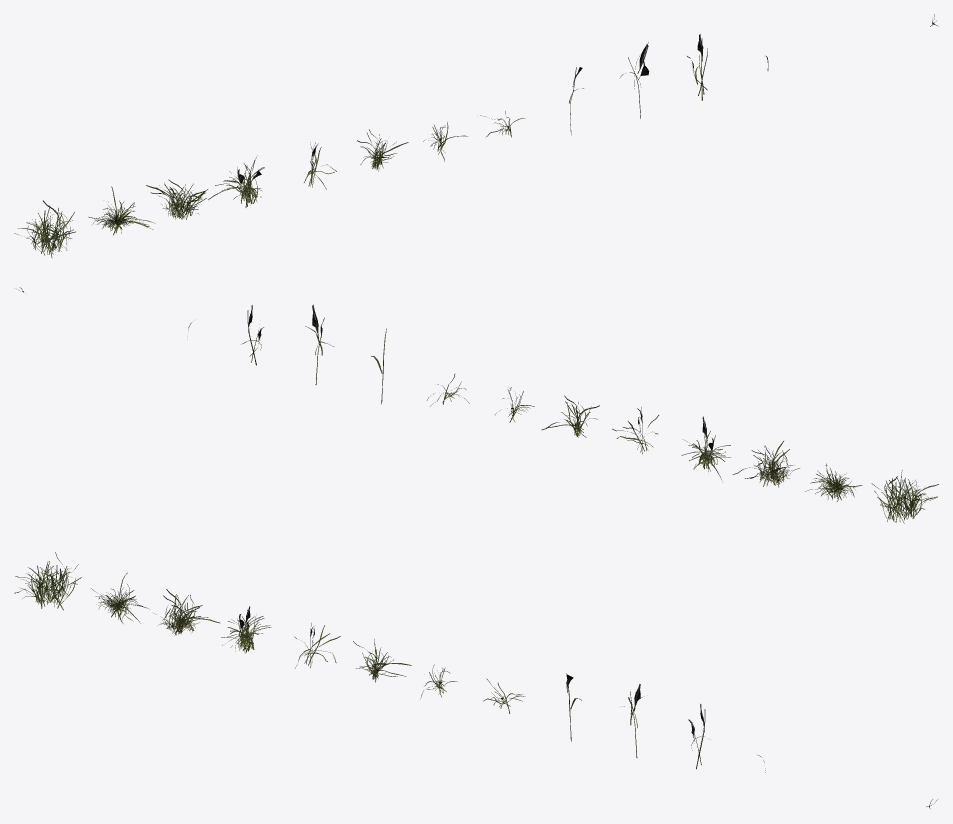
File: veg_grassB.glb
The picture shows the model from 3 angles, top to bottom: view 1: azimuth 30°, elevation 25°; view 2: azimuth 150°, elevation 25°; view 3: azimuth 330°, elevation 25°; orthographic projection.
Visible parts, largest first — view 1: VEG_grassB; view 2: VEG_grassB; view 3: VEG_grassB.
Boxes of the visible parts, x1=… form: VEG_grassB: x1=14, y1=14, x2=938, y2=258; VEG_grassB: x1=19, y1=287, x2=938, y2=523; VEG_grassB: x1=14, y1=552, x2=937, y2=808.
Size of the model in its own units: 5.64 by 0.4675 by 0.4097.
Materials: 1 (1 with a texture image).
